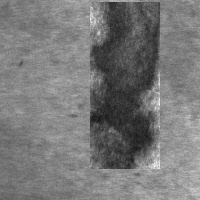patches: (90, 2, 160, 169)
rolled-in_scale: (68, 63, 139, 139), (99, 1, 145, 39)
